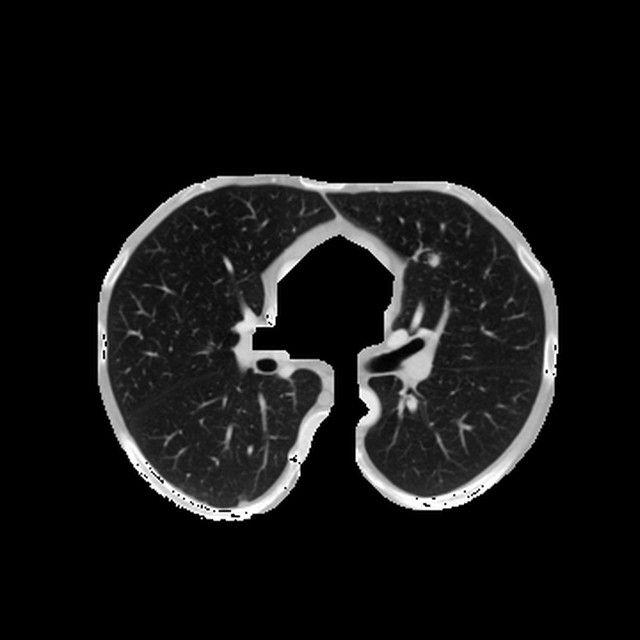PN: (427, 252, 441, 267)
